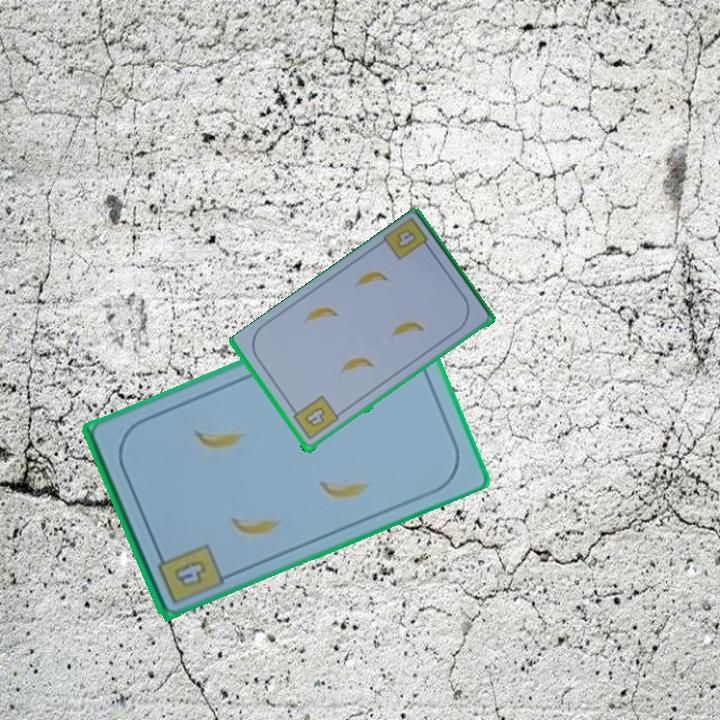4b: (288, 392, 341, 443), (380, 215, 435, 264), (170, 555, 210, 590)
